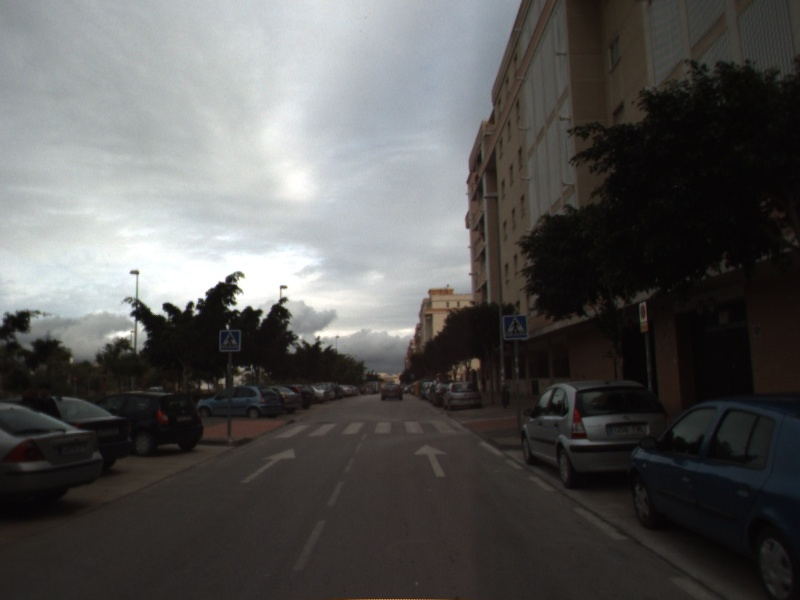STRAIGHT: (239, 446, 297, 485), (411, 441, 450, 479)
